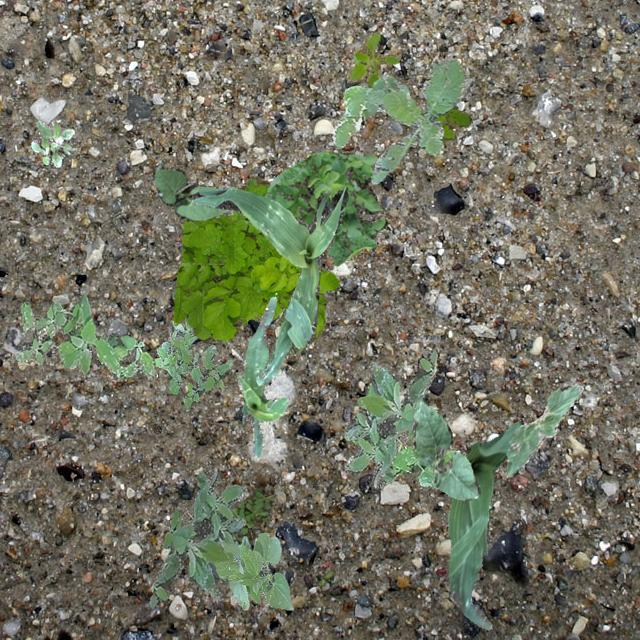crop: (190, 186, 346, 384), (447, 421, 522, 628), (236, 296, 288, 454), (506, 384, 582, 474), (412, 398, 479, 499), (212, 532, 292, 608), (152, 163, 232, 220)
weed: (172, 176, 338, 342), (332, 58, 466, 182), (264, 150, 386, 264), (148, 467, 245, 608), (344, 348, 436, 486), (343, 382, 458, 486), (15, 294, 156, 378), (154, 316, 232, 408), (346, 32, 398, 86), (230, 488, 272, 544), (30, 118, 76, 166), (432, 104, 470, 148)
